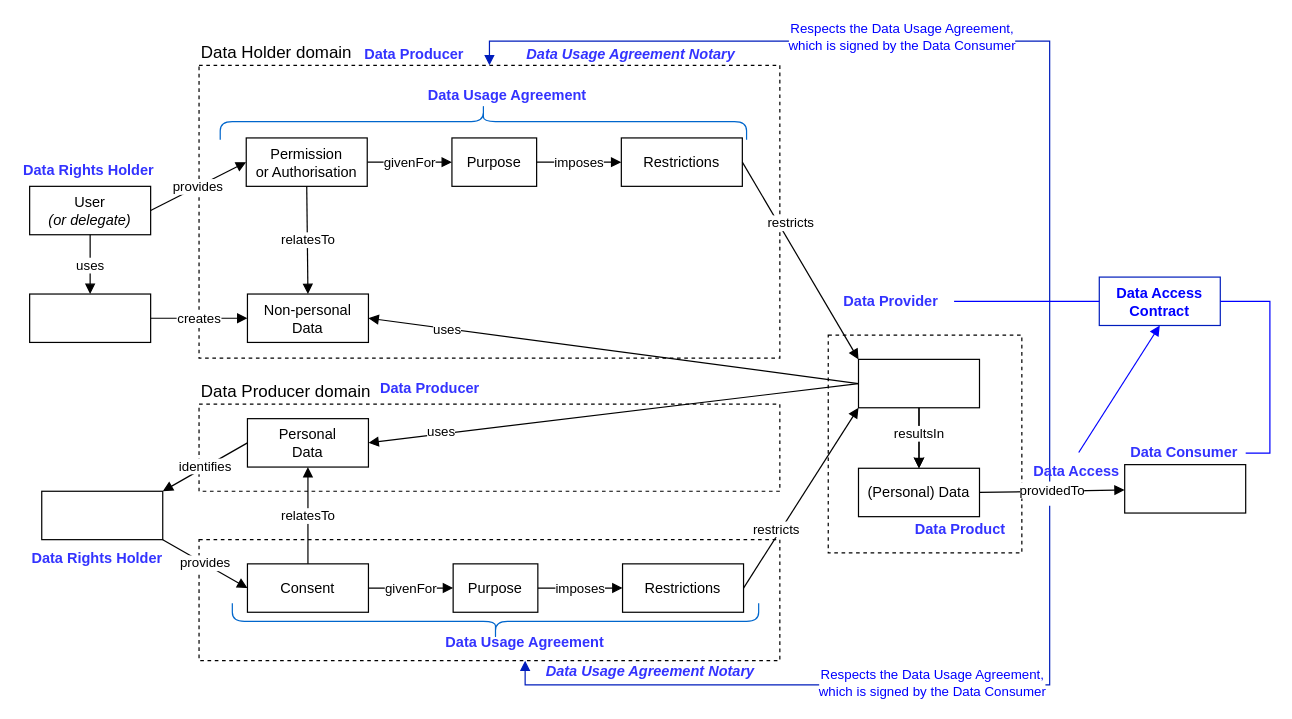
This 1292x719 diagram has some shape labels left out. The box of each missing label's shape, as (x1, y1, x2, y2) in pixels:
Data Controller domain: (198, 538, 780, 661)
Data Processing: (857, 358, 979, 408)
Data Processor Domain: (827, 334, 1022, 553)
Data Subject (or delegate): (41, 490, 163, 540)
Product / Service: (28, 293, 151, 342)
Recipient: (1123, 463, 1246, 513)
